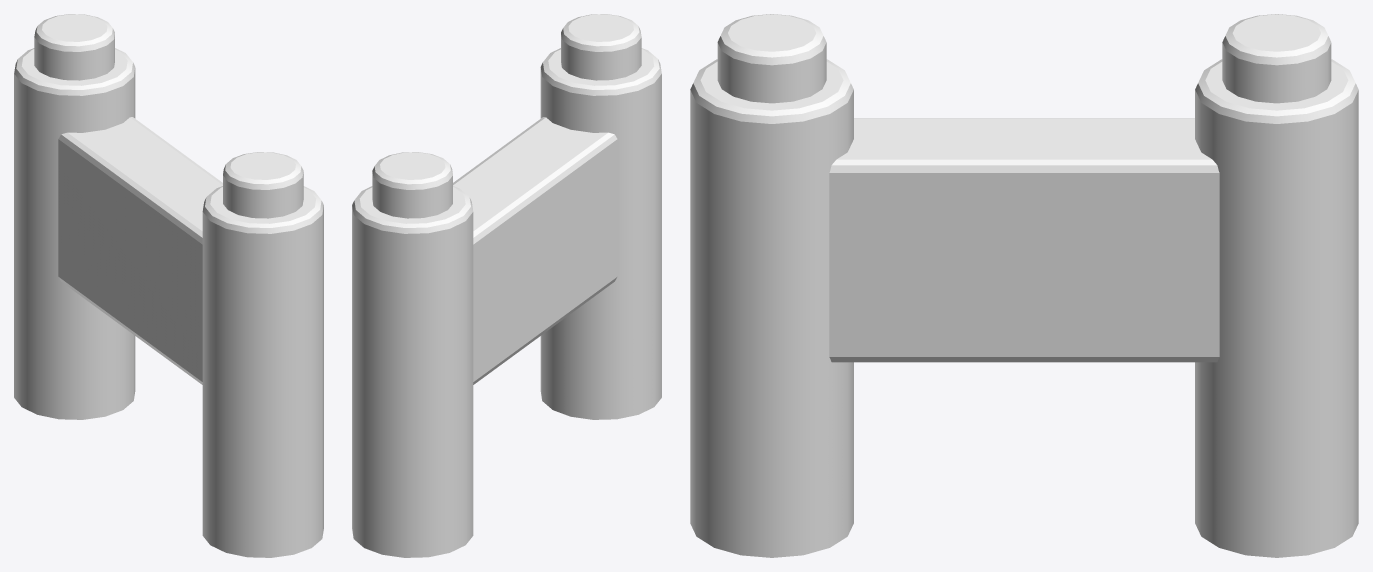
Rendered from fence_001.fbx.
3 renders of one model, left to right at view 1: azimuth 30°, elevation 25°; view 2: azimuth 150°, elevation 25°; view 3: azimuth 270°, elevation 25°, orthographic. The views are drawn at different scales.
Parts seen in each view (by area): view 1: fence_001; view 2: fence_001; view 3: fence_001.
Part boxes in pixels (x1,y1,x2,y2): fence_001: (14,14,323,557); fence_001: (352,14,661,557); fence_001: (690,14,1358,557).
Bounding box in the file's own units: 0.4863 × 1.61 × 1.99.
